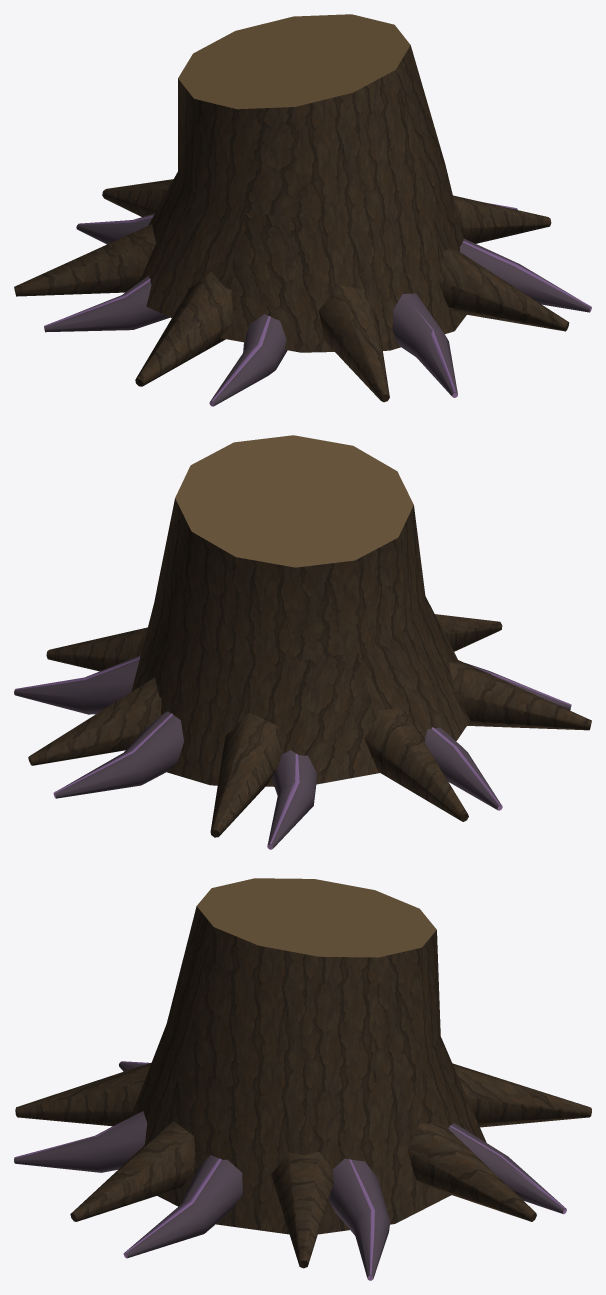
3 views of the same model, one above another, from view 1: azimuth 30°, elevation 25°; view 2: azimuth 150°, elevation 25°; view 3: azimuth 270°, elevation 25° (orthographic). The views are drawn at different scales.
Parts seen in each view (by area): view 1: Corrupted Root Runtime; view 2: Corrupted Root Runtime; view 3: Corrupted Root Runtime.
Boxes of the visible parts, x1=… form: Corrupted Root Runtime: x1=14, y1=14, x2=591, y2=406; Corrupted Root Runtime: x1=14, y1=435, x2=591, y2=849; Corrupted Root Runtime: x1=14, y1=878, x2=591, y2=1280.
Bounding box in the file's own units: 4.41 × 2.22 × 4.51.
5 materials, 1 textured.
